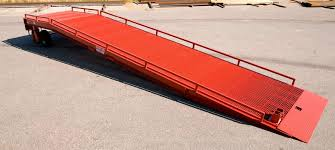Yard Ramp: (25, 5, 328, 144)
